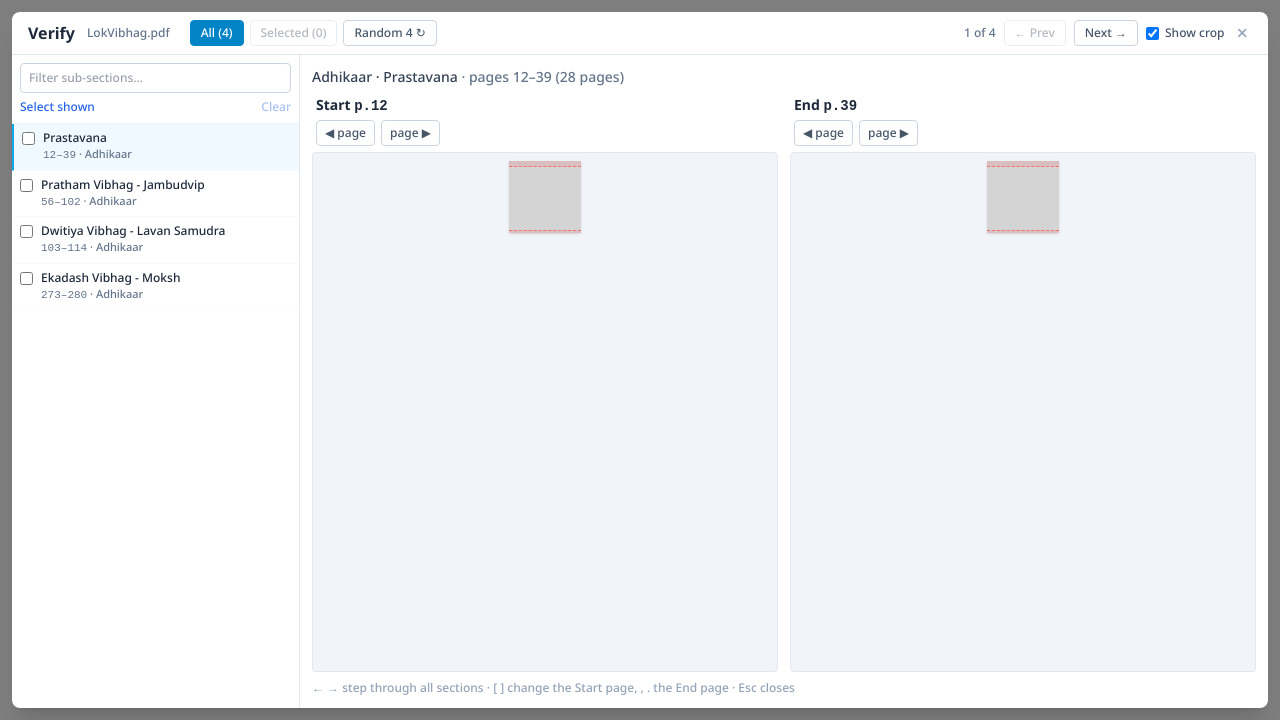
Test: reviewing neighbouring pages, and SET › a refused save shows the reason and keeps the page you were looking at
This screenshot has width=1280, height=720.
Click the button with aria-label "Start next page": coordinates (410, 133) x1=381 y1=120 x2=440 y2=146
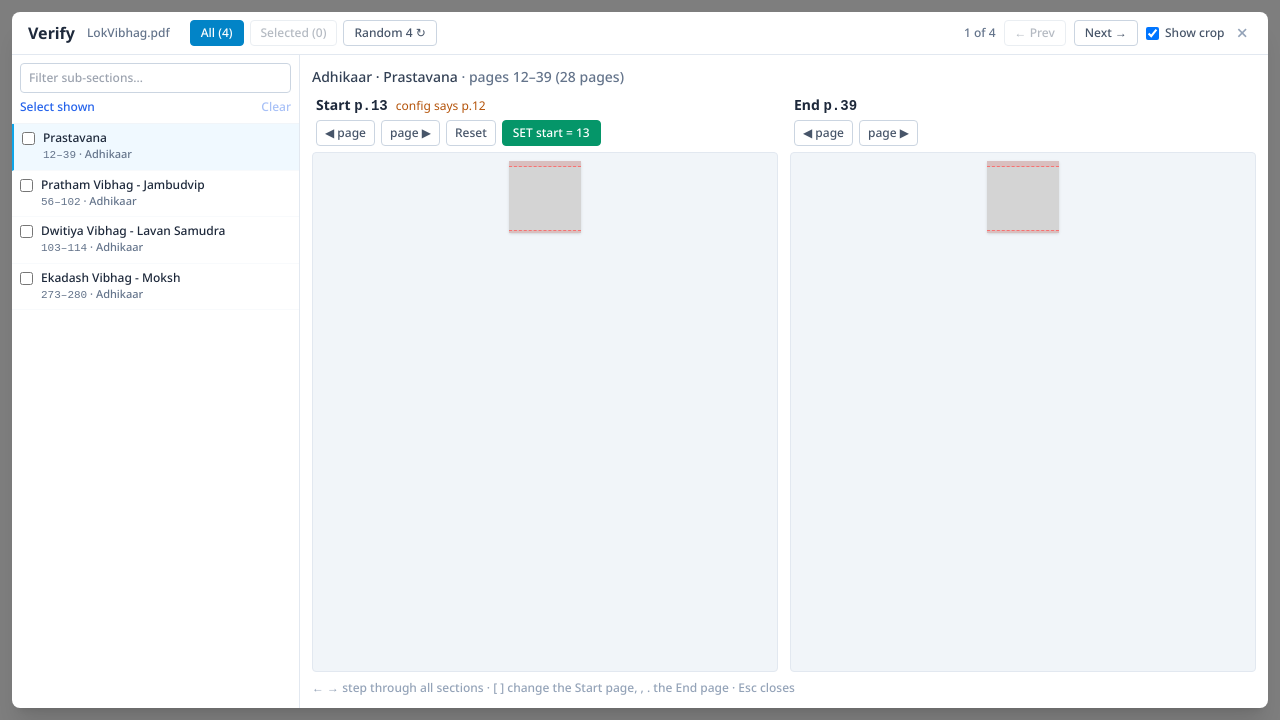
Click the button "SET start = 13": coordinates (551, 133) x1=502 y1=120 x2=601 y2=146
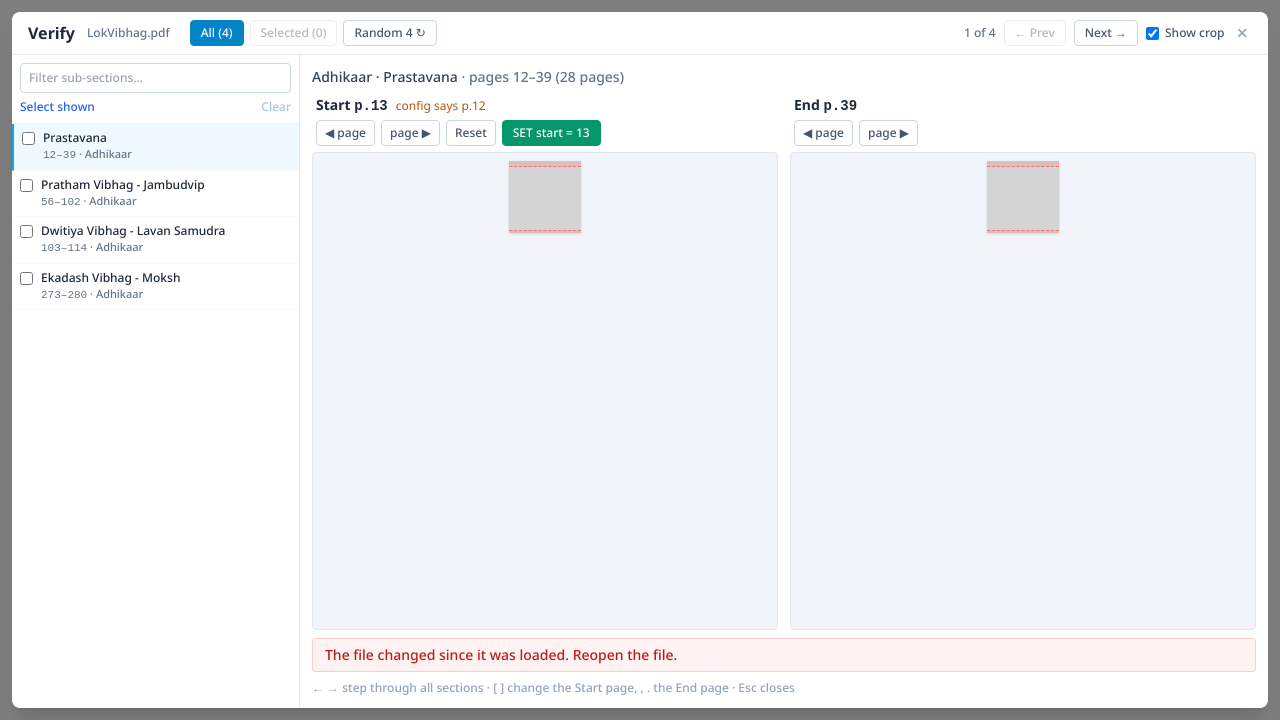
Expected: the message shows "The file changed since it was loaded", x1=325 y1=645 x2=677 y2=664
